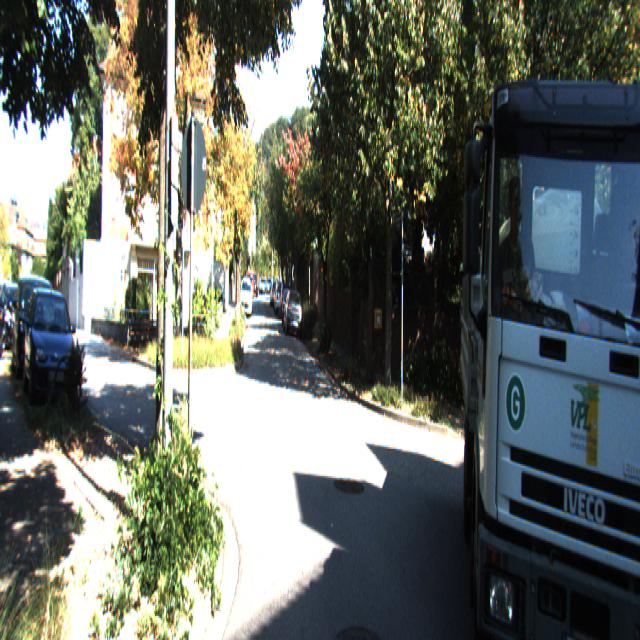Car: (461, 0, 639, 639), (24, 286, 80, 410), (8, 272, 62, 385), (283, 286, 303, 339), (240, 278, 253, 319)
